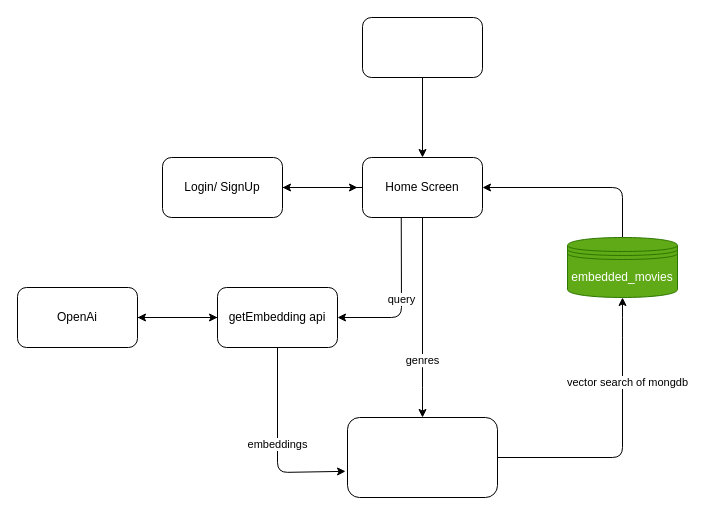
The diagram is 705 pixels wide and 515 high, and some of its shapes have lost their labels. The shapes that lost their labels are listed below. From the top down, each one's centre as x and y in pixels, then its label:
At point 422,47: "User".
At point 422,457: "findSimilarDocument api service using NodeJS".
